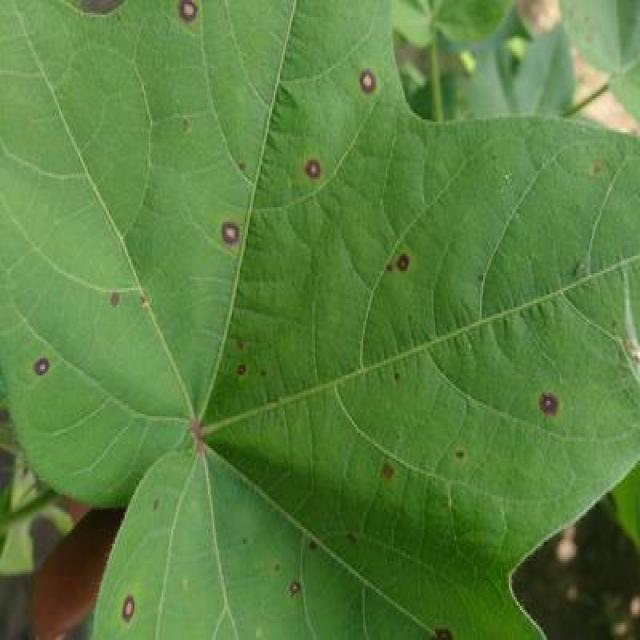Cotton Ball Rot: (533, 384, 563, 425), (216, 215, 245, 254), (354, 62, 381, 102), (298, 151, 327, 188)
